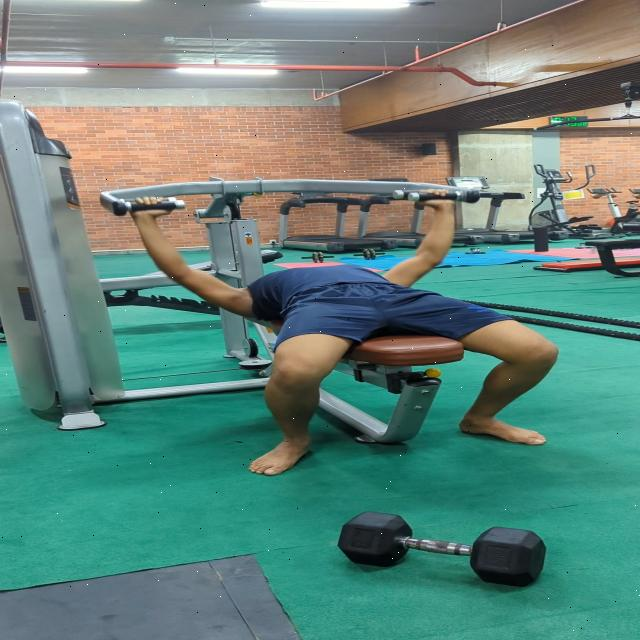Normal_BrenchPress: (128, 186, 583, 482)
